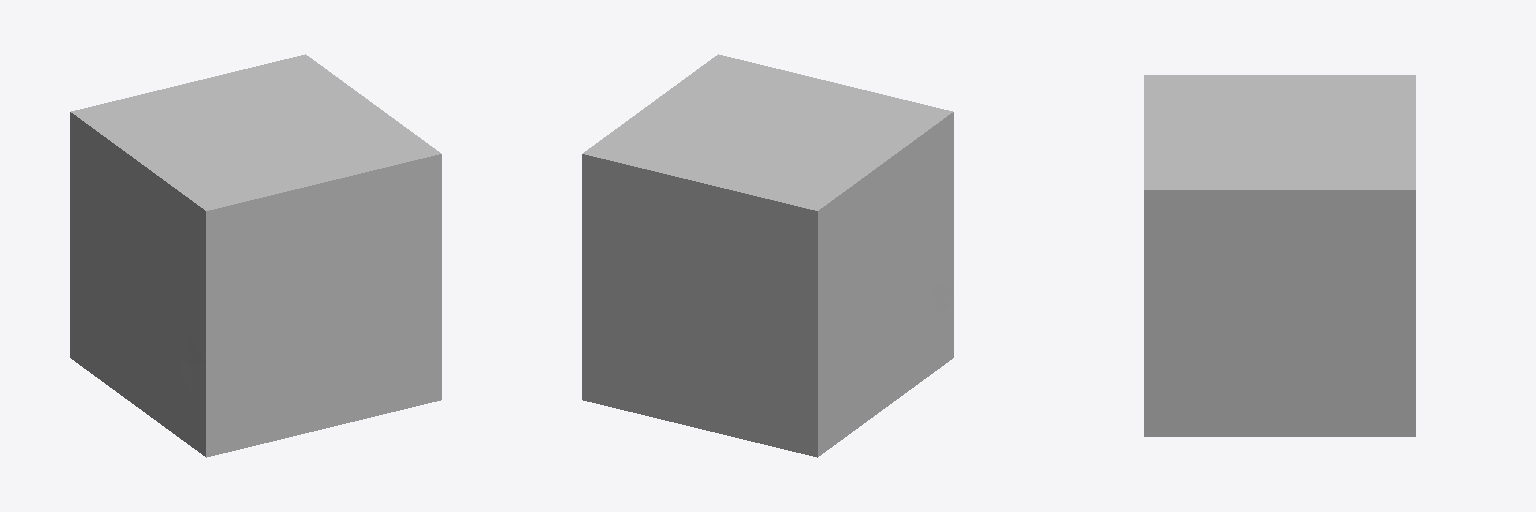
Rendered from Section2_Part1_IsolatedTriangles_Subdivision_SimpleMethod_Level2.obj.
3 renders of one model, left to right at view 1: azimuth 30°, elevation 25°; view 2: azimuth 150°, elevation 25°; view 3: azimuth 270°, elevation 25°, orthographic.
Visible parts, largest first — view 1: Cube_Cube.001; view 2: Cube_Cube.001; view 3: Cube_Cube.001.
Part boxes in pixels (bbox=[...]): Cube_Cube.001: bbox=[70, 54, 441, 457]; Cube_Cube.001: bbox=[582, 54, 953, 457]; Cube_Cube.001: bbox=[1144, 75, 1415, 436].
Size of the model in its own units: 2.11 by 2.11 by 2.11.